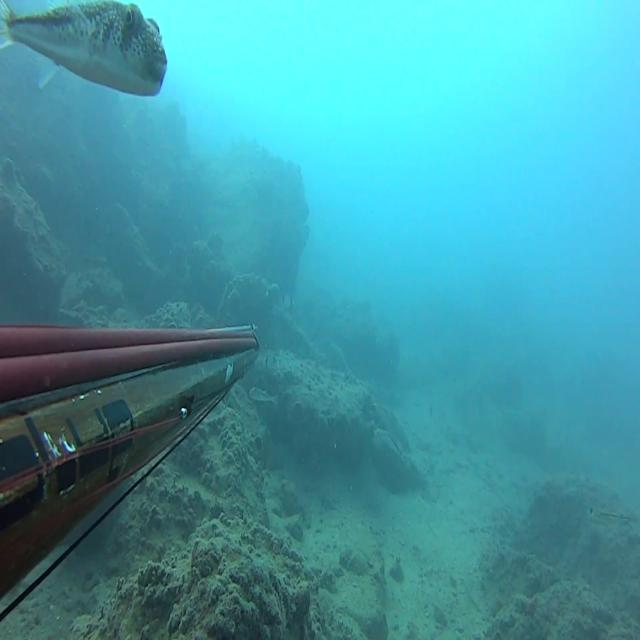Balon Baligi: (1, 0, 168, 100), (587, 505, 640, 527), (249, 387, 278, 405)
